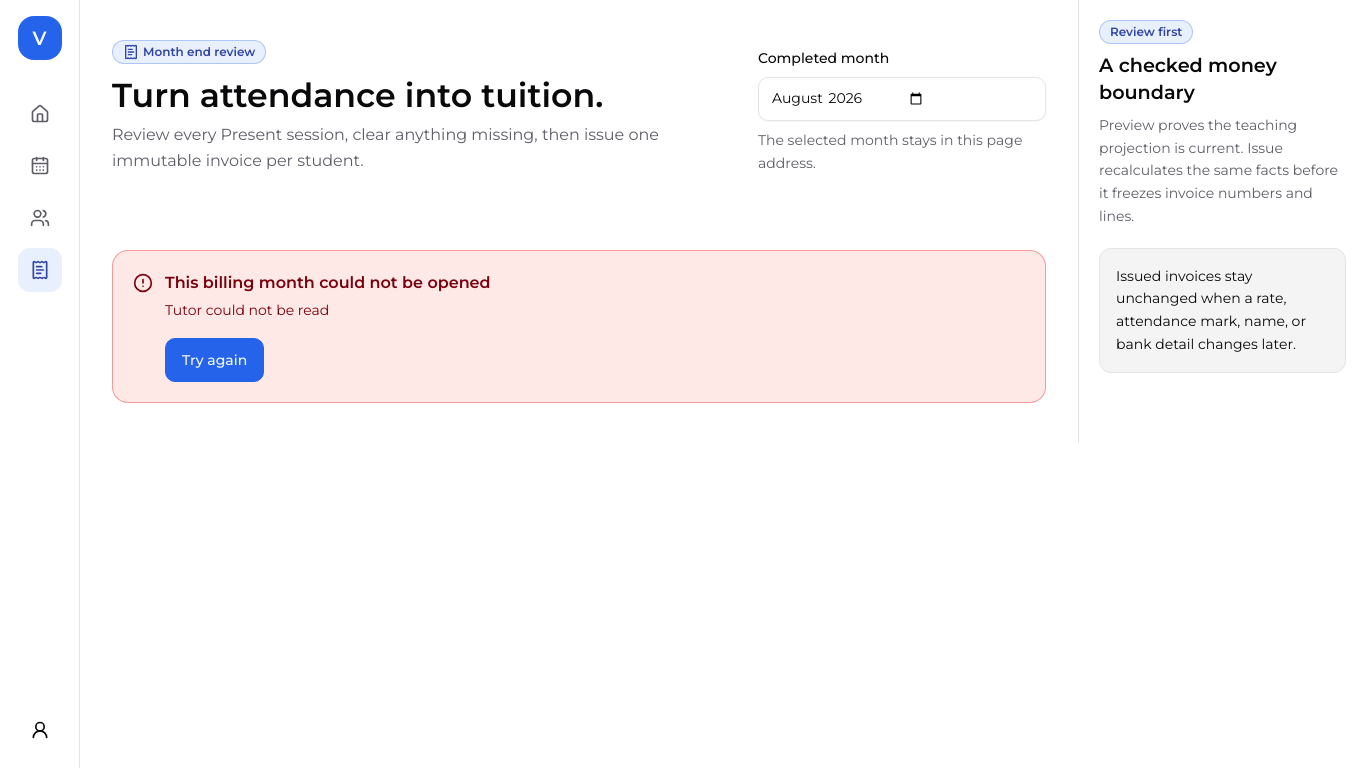
Test: BillingPage › shows and retries an initial tutor read failure
The width and height of the screenshot is (1366, 768).
Check: the heading "This billing month could not be opened" is shown, box 165,272 -> 491,296
Check: the text "Tutor could not be read" is shown, box 165,302 -> 329,320
Click the button "Try again". click: (215, 360)
box: 165,338 -> 264,382
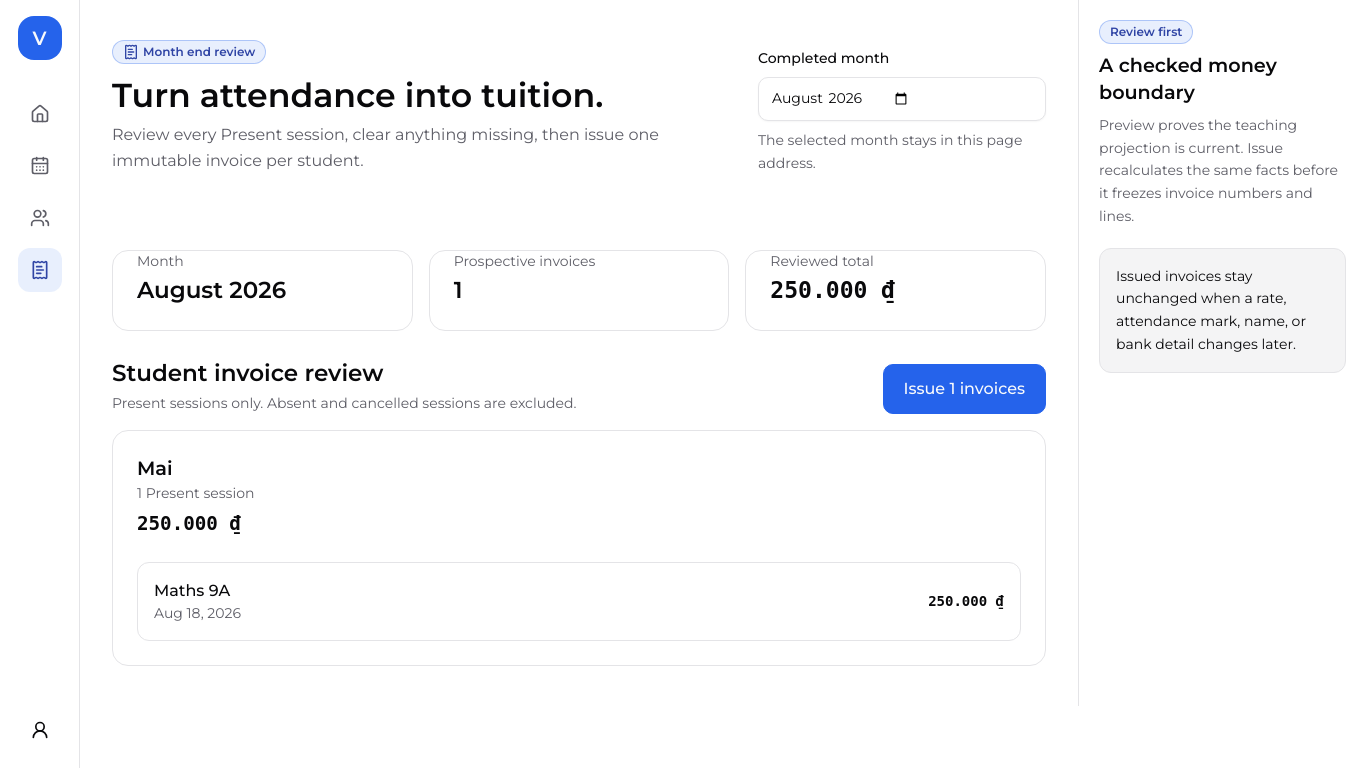
Check: the heading "Student invoice review" is shown, box 112,359 -> 383,387
